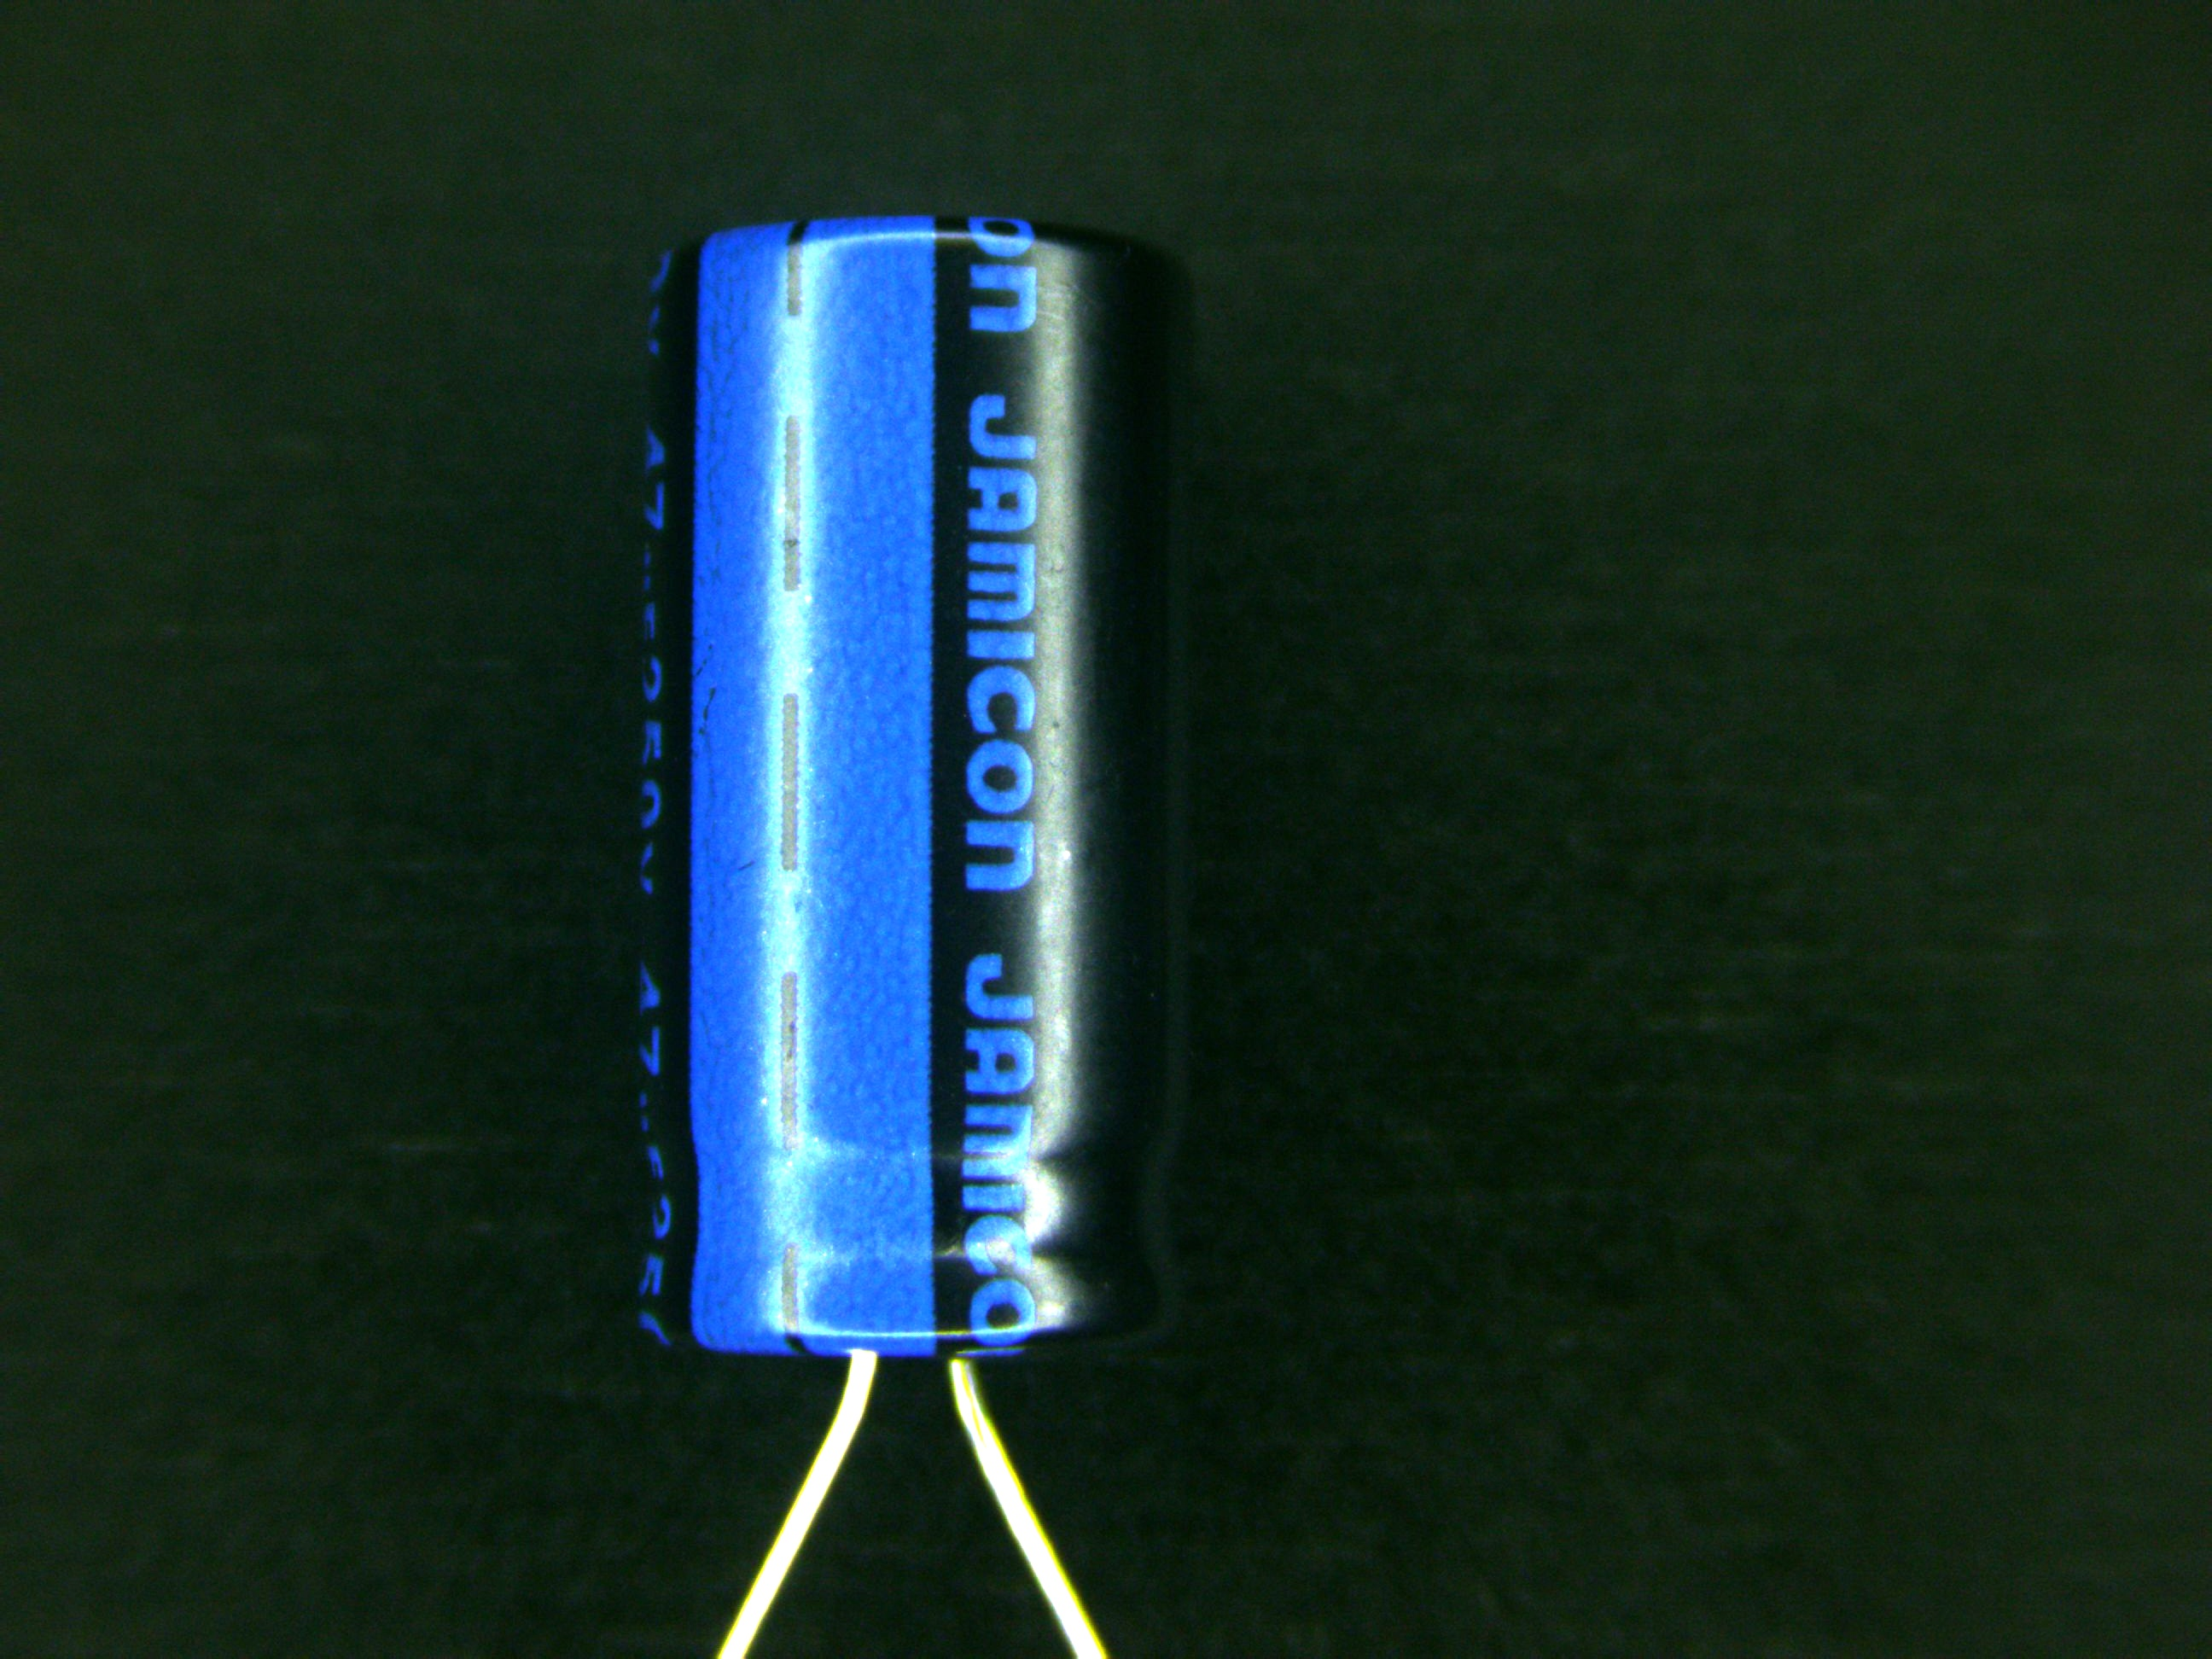c2: (629, 209, 1195, 1478)
